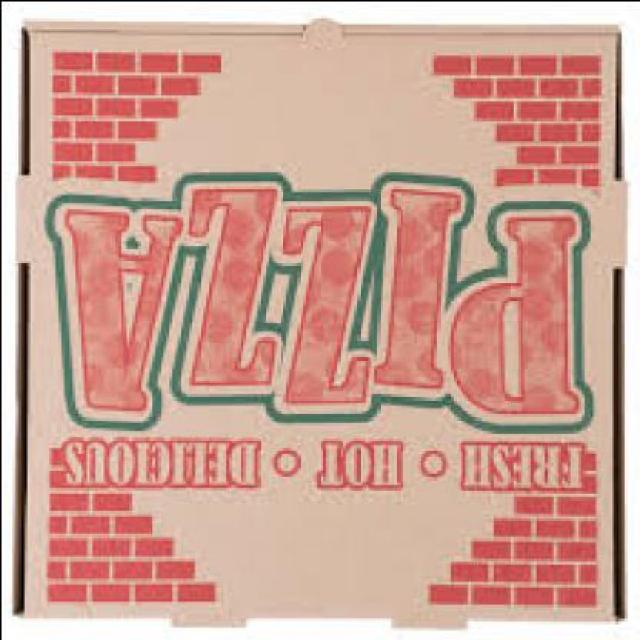CARDBOARD: (17, 22, 632, 638)
